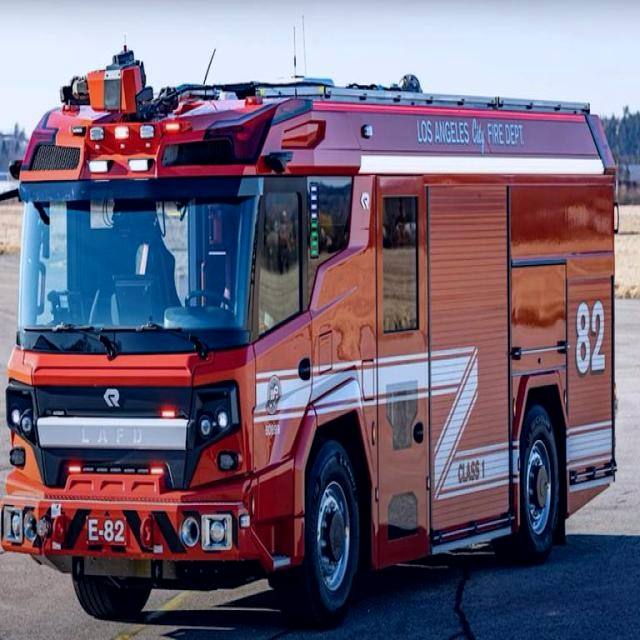Fire-truck: (0, 39, 620, 630)
